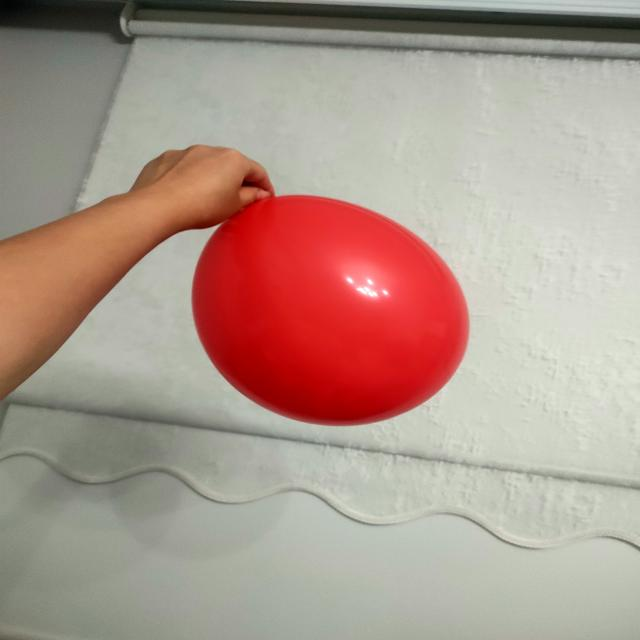red: (194, 195, 471, 428)
